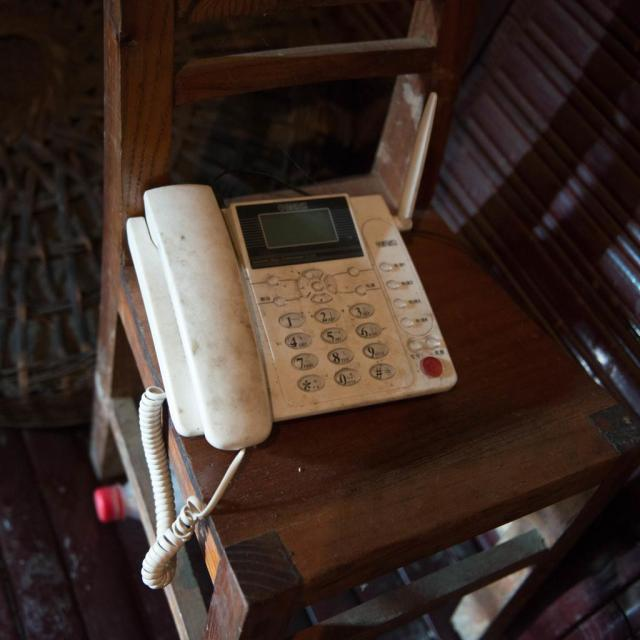Phone: (124, 180, 462, 596)
